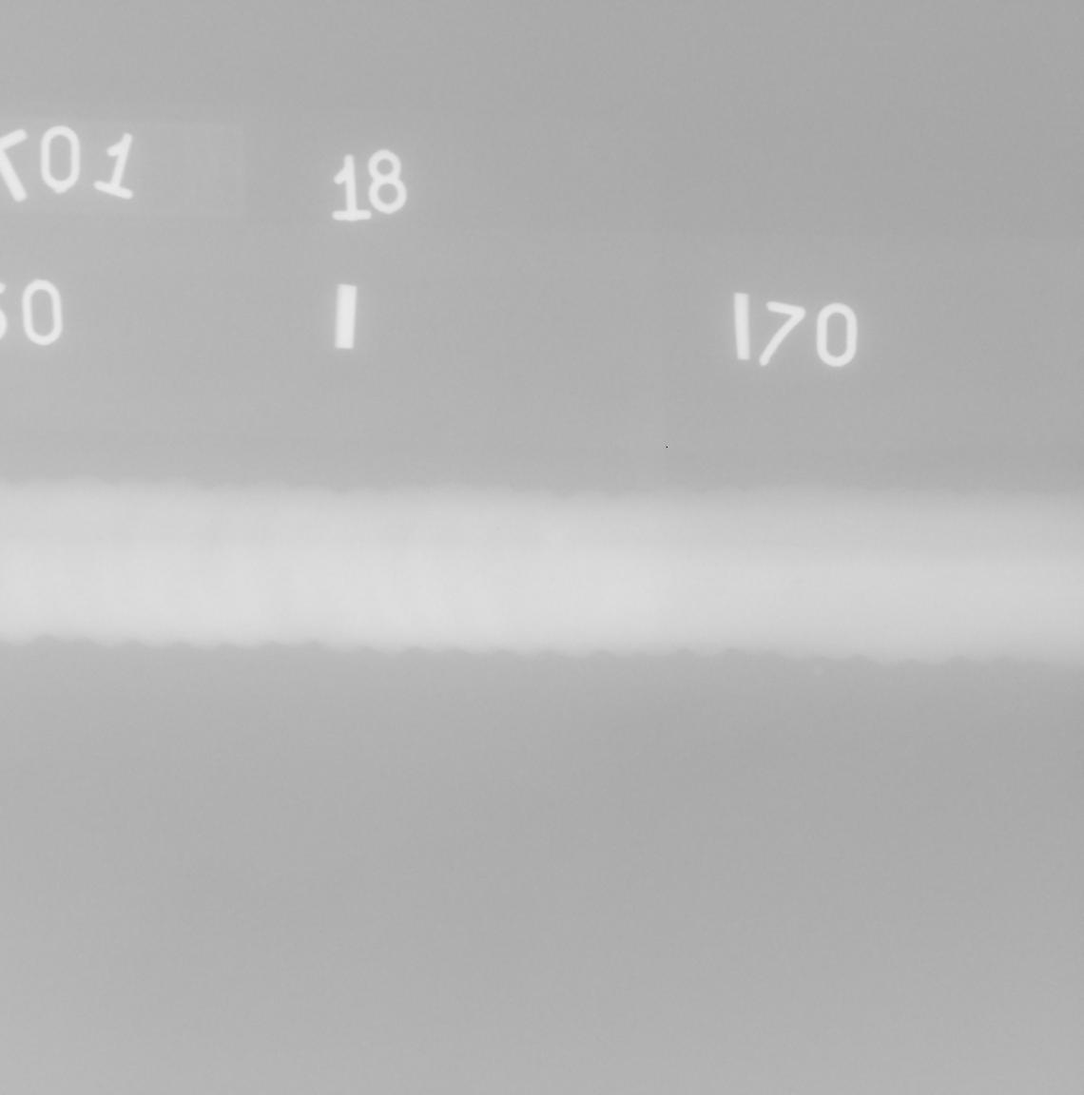Inclusion: (796, 578, 803, 585)
